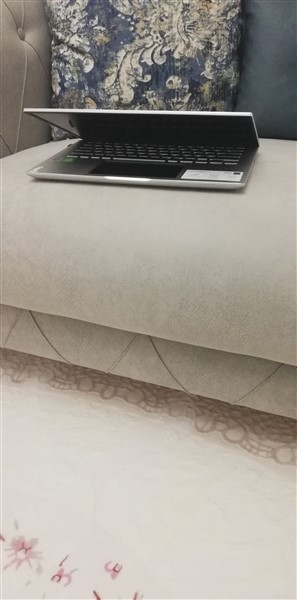laptop: (22, 98, 270, 207)
